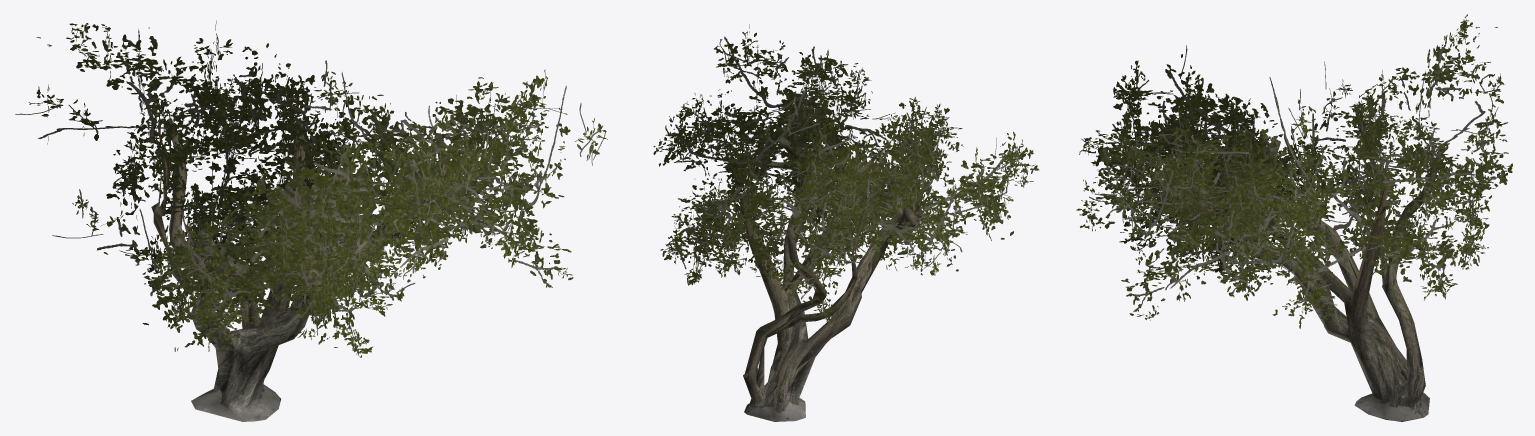
File: island_tree_02.glb
The picture shows the model from 3 angles, left to right: view 1: azimuth 30°, elevation 25°; view 2: azimuth 150°, elevation 25°; view 3: azimuth 270°, elevation 25°; orthographic projection. The views are drawn at different scales.
Visible parts, largest first — view 1: foliage, island_tree_02_LOD0 (×2); view 2: foliage, island_tree_02_LOD0 (×2); view 3: foliage, island_tree_02_LOD0 (×2).
Part boxes in pixels (left/top/right/bottom): foliage: left=15, top=20, right=607, bottom=357; island_tree_02_LOD0 (×2): left=151, top=118, right=480, bottom=421; foliage: left=653, top=24, right=1039, bottom=324; island_tree_02_LOD0 (×2): left=727, top=123, right=923, bottom=421; foliage: left=1076, top=14, right=1512, bottom=328; island_tree_02_LOD0 (×2): left=1150, top=104, right=1444, bottom=421.
Bounding box in the file's own units: 4.18 × 3.4 × 4.13.
Materials: 2 (2 with a texture image).
